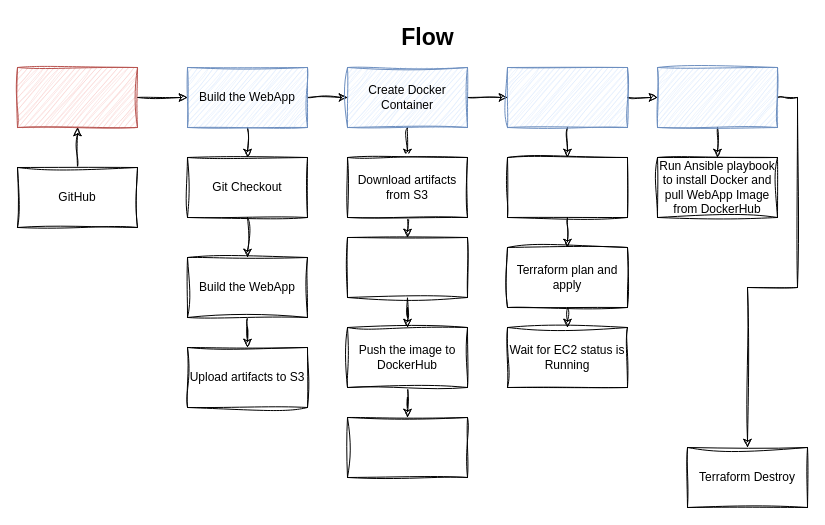
The diagram is 825 pixels wide and 525 high, and some of its shapes have lost their labels. Each missing label, with the centre of its shape:
Build the Docker Container: point (407, 267)
Configure the Web-Server: point (717, 97)
Create Infrastructure using Terraform: point (567, 97)
Initialize the S3 backend: point (567, 187)
Jenkins: point (77, 97)
Remove the image locally: point (407, 447)
